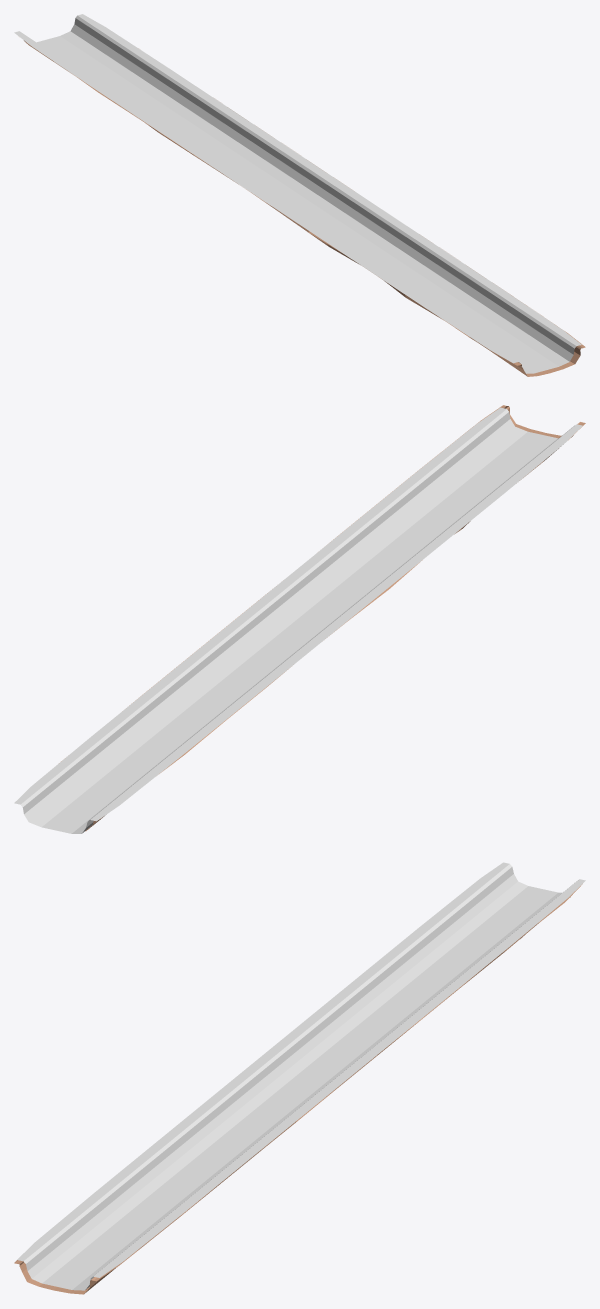
Rendered from Bahn succeed_.fbx.
3 views of the same model, one above another, from view 1: azimuth 30°, elevation 25°; view 2: azimuth 150°, elevation 25°; view 3: azimuth 330°, elevation 25° (orthographic). The views are drawn at different scales.
Parts seen in each view (by area): view 1: NurbsPath, NurbsPath.001; view 2: NurbsPath, NurbsPath.001; view 3: NurbsPath, NurbsPath.001.
Boxes of the visible parts, x1,y1,x2,y2 form: NurbsPath: [14, 14, 581, 373]; NurbsPath.001: [24, 40, 585, 376]; NurbsPath: [14, 407, 582, 833]; NurbsPath.001: [61, 405, 585, 831]; NurbsPath: [17, 862, 585, 1290]; NurbsPath.001: [14, 884, 582, 1294].
Bounding box in the file's own units: 1480 × 256 × 10965.
